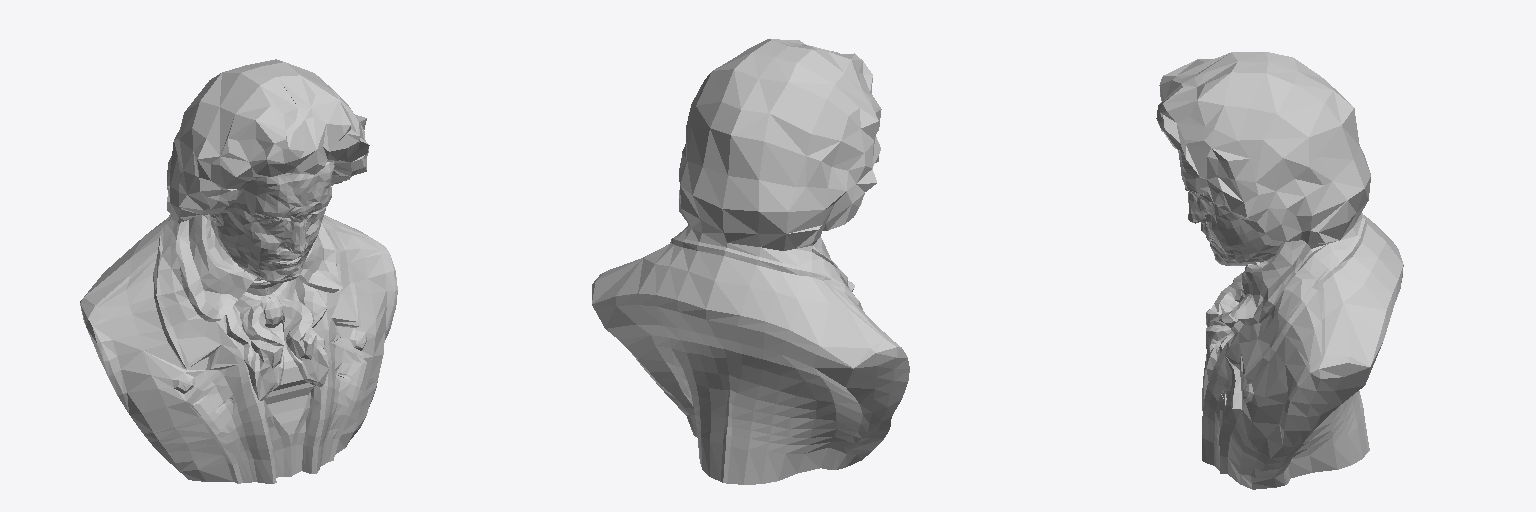
Rendered from beethoven.obj.
3 views of the same model, side by side, from view 1: azimuth 30°, elevation 25°; view 2: azimuth 150°, elevation 25°; view 3: azimuth 270°, elevation 25° (orthographic).
Size of the model in its own units: 9.3 by 11.58 by 6.67.